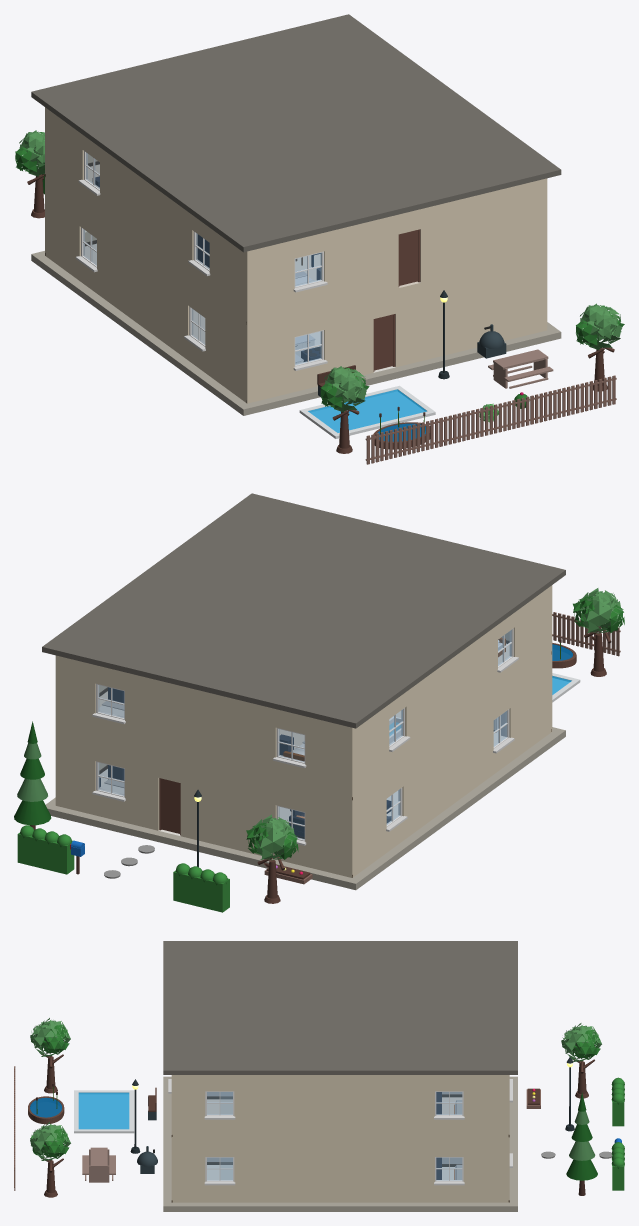
Rendered from THE_SERENITY_HOUSE.glb.
3 views of the same model, one above another, from view 1: azimuth 30°, elevation 25°; view 2: azimuth 150°, elevation 25°; view 3: azimuth 270°, elevation 25° (orthographic). The views are drawn at different scales.
Visible parts, largest first — view 1: Roof, Wall south (×2), Wall west (×2), Perimeter Fence (×5), Foundation, Shade Tree (×2), Infinity Swimming Pool, Window (×3), Door (×2), Grand Oak Tree, Teak Dining Table, Koi Pond (+1 smaller); view 2: Roof, Wall north (×2), Wall west (×2), Foundation, Window (×8), Front Hedge (×2), Grand Oak Tree, Shade Tree, Accent Pine, Door, Perimeter Fence; view 3: Roof, Wall east (×2), Foundation, Window (×4), Shade Tree (×2), Infinity Swimming Pool, Accent Pine, Grand Oak Tree, Front Hedge (×2), Floor (×2), Teak Dining Table, Koi Pond (+1 smaller).
Boxes of the visible parts, <box> form: Roof: <box>31,14,561,252</box>; Wall south (×2): <box>247,178,547,403</box>; Wall west (×2): <box>45,107,247,403</box>; Perimeter Fence (×5): <box>365,375,616,464</box>; Foundation: <box>31,251,561,415</box>; Shade Tree (×2): <box>320,303,624,453</box>; Infinity Swimming Pool: <box>299,385,435,438</box>; Window (×3): <box>188,231,327,370</box>; Door (×2): <box>373,229,420,371</box>; Grand Oak Tree: <box>15,130,44,218</box>; Teak Dining Table: <box>488,349,553,388</box>; Koi Pond: <box>373,406,430,449</box>; Roof: <box>42,493,565,728</box>; Wall north (×2): <box>55,655,352,877</box>; Wall west (×2): <box>352,585,552,877</box>; Foundation: <box>45,727,565,890</box>; Window (×8): <box>92,628,518,845</box>; Front Hedge (×2): <box>17,825,229,912</box>; Grand Oak Tree: <box>246,814,298,903</box>; Shade Tree: <box>573,588,624,676</box>; Accent Pine: <box>14,721,51,829</box>; Door: <box>159,778,180,835</box>; Perimeter Fence: <box>570,616,620,656</box>; Roof: <box>163,941,517,1074</box>; Wall east (×2): <box>171,1075,509,1202</box>; Foundation: <box>163,1076,517,1211</box>; Window (×4): <box>204,1091,464,1185</box>; Shade Tree (×2): <box>30,1018,70,1197</box>; Infinity Swimming Pool: <box>74,1090,134,1133</box>; Accent Pine: <box>566,1092,597,1195</box>; Grand Oak Tree: <box>561,1023,601,1098</box>; Front Hedge (×2): <box>611,1077,624,1190</box>; Floor (×2): <box>207,1097,462,1179</box>; Teak Dining Table: <box>82,1147,115,1182</box>; Koi Pond: <box>28,1083,64,1124</box>.
Bounding box in the file's own units: 12.7 × 6.45 × 25.31.
